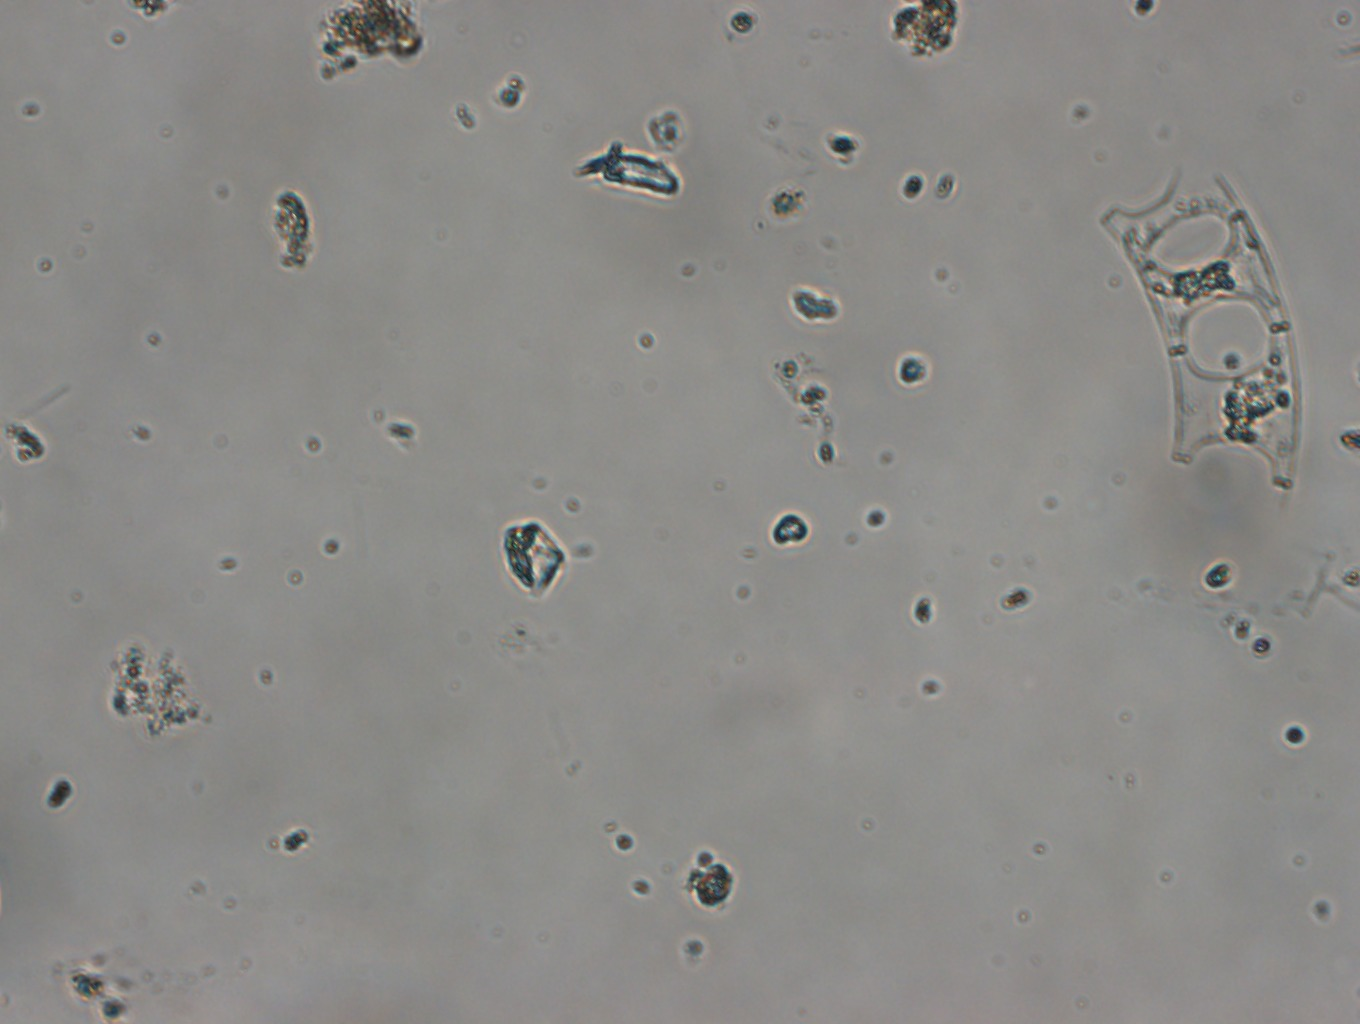eucampia: (1084, 155, 1306, 497)
